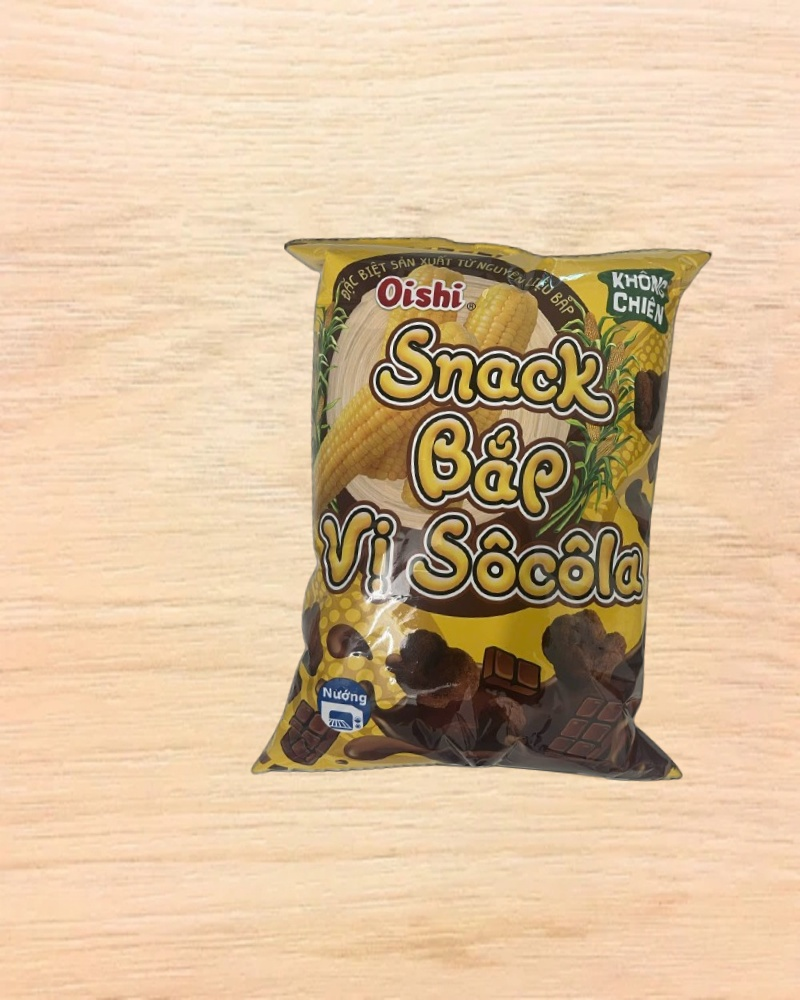Snack socola: (242, 219, 728, 800)
